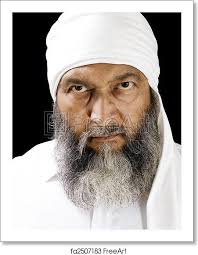middle_eastern_male: (55, 51, 160, 148)
